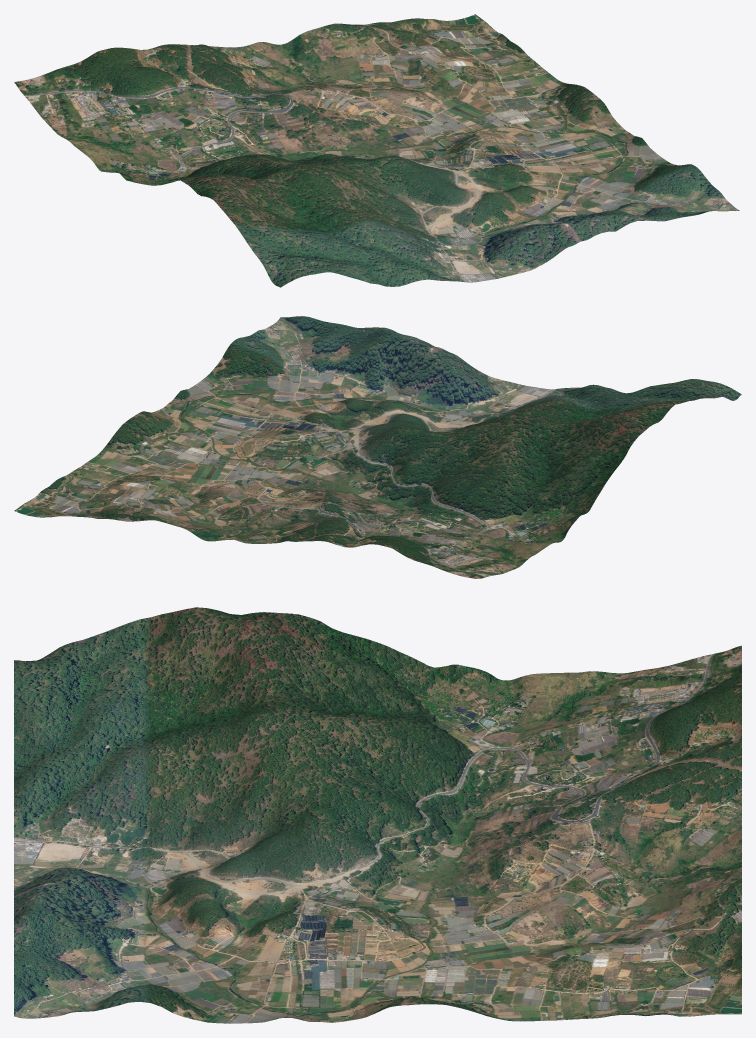
The model's file is terrain_real_T_E01_S02.glb.
3 renders of one model, top to bottom at view 1: azimuth 30°, elevation 25°; view 2: azimuth 150°, elevation 25°; view 3: azimuth 270°, elevation 25°, orthographic. The views are drawn at different scales.
Visible parts, largest first — view 1: TerrainReal_T_E01_S02; view 2: TerrainReal_T_E01_S02; view 3: TerrainReal_T_E01_S02.
Boxes of the visible parts, x1,y1,x2,y2 form: TerrainReal_T_E01_S02: (14,14,739,287); TerrainReal_T_E01_S02: (14,316,741,578); TerrainReal_T_E01_S02: (14,607,741,1023).
Size of the model in its own units: 2000 by 343 by 2000.
1 material, 1 textured.
